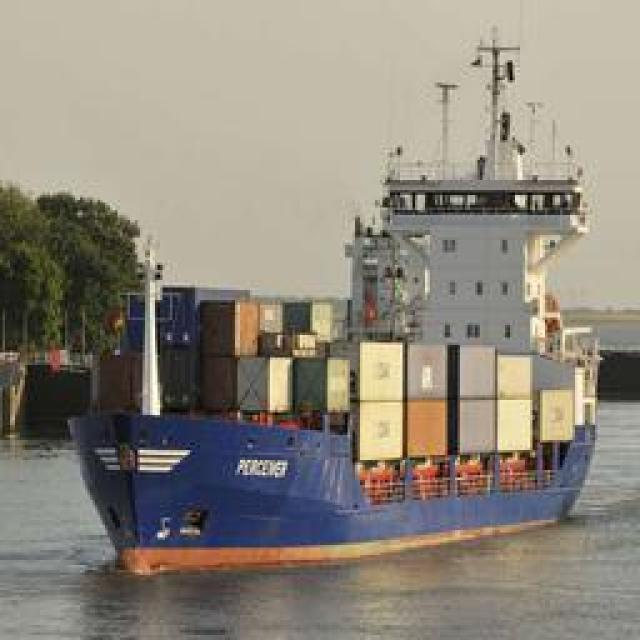Ship: (60, 319, 600, 579)
